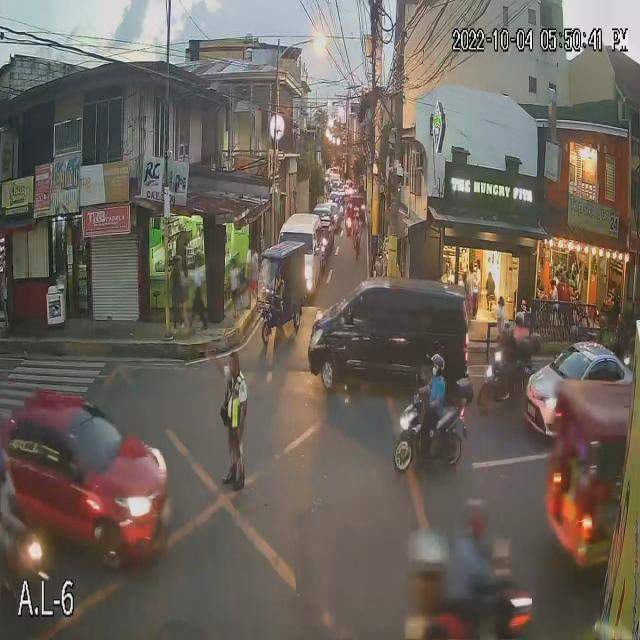helmet: (456, 497, 505, 542), (421, 353, 453, 386), (500, 321, 518, 342), (519, 321, 537, 340)
motorcycle: (424, 574, 548, 640), (380, 398, 470, 480), (477, 361, 540, 416)
rider: (441, 533, 497, 625), (410, 375, 454, 450), (498, 336, 520, 381), (516, 339, 536, 378)
